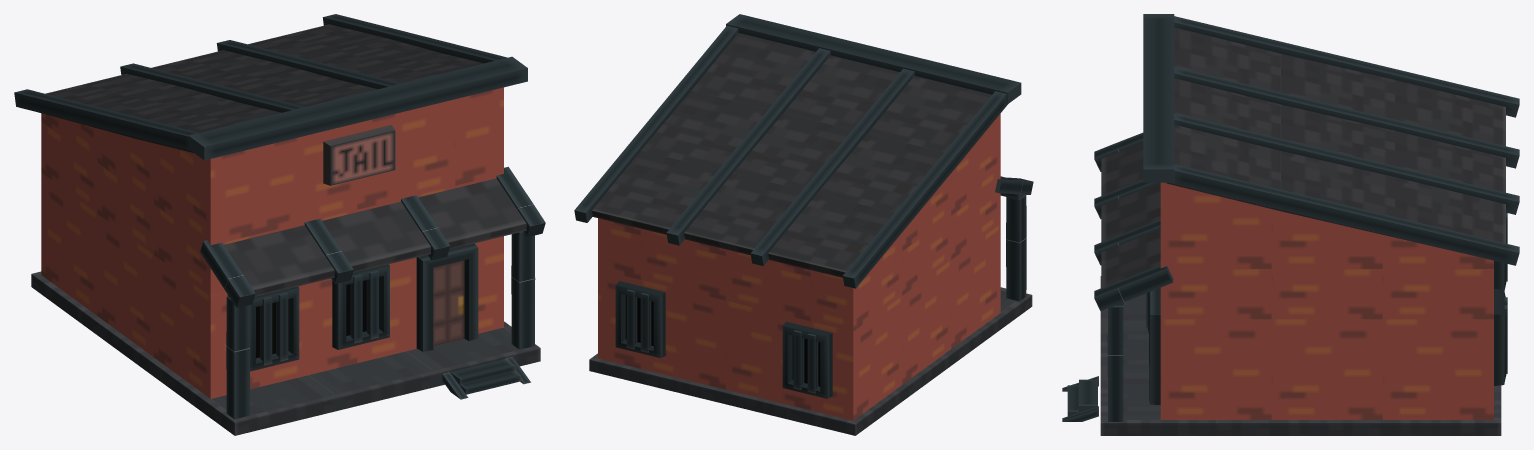
File: jail002.fbx
3 views of the same model, side by side, from view 1: azimuth 30°, elevation 25°; view 2: azimuth 150°, elevation 25°; view 3: azimuth 270°, elevation 25° (orthographic). The views are drawn at different scales.
Parts seen in each view (by area): view 1: jail002; view 2: jail002; view 3: jail002.
Part boxes in pixels (x1,y1,x2,y2): jail002: (14, 14, 545, 435); jail002: (574, 14, 1033, 435); jail002: (1062, 14, 1519, 435).
Size of the model in its own units: 662 by 538 by 823.
